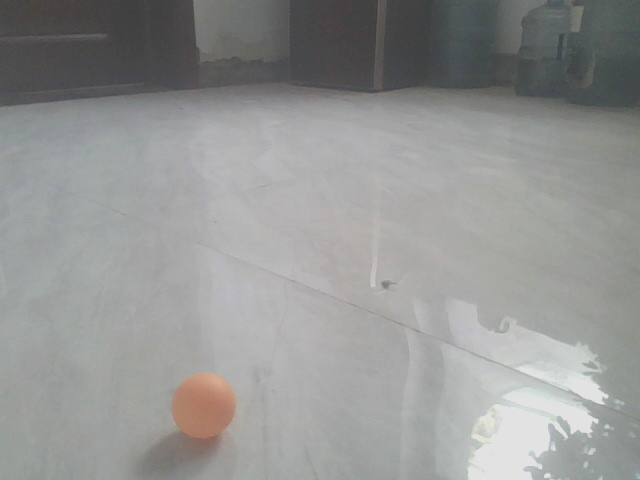ball: (174, 371, 239, 439)
